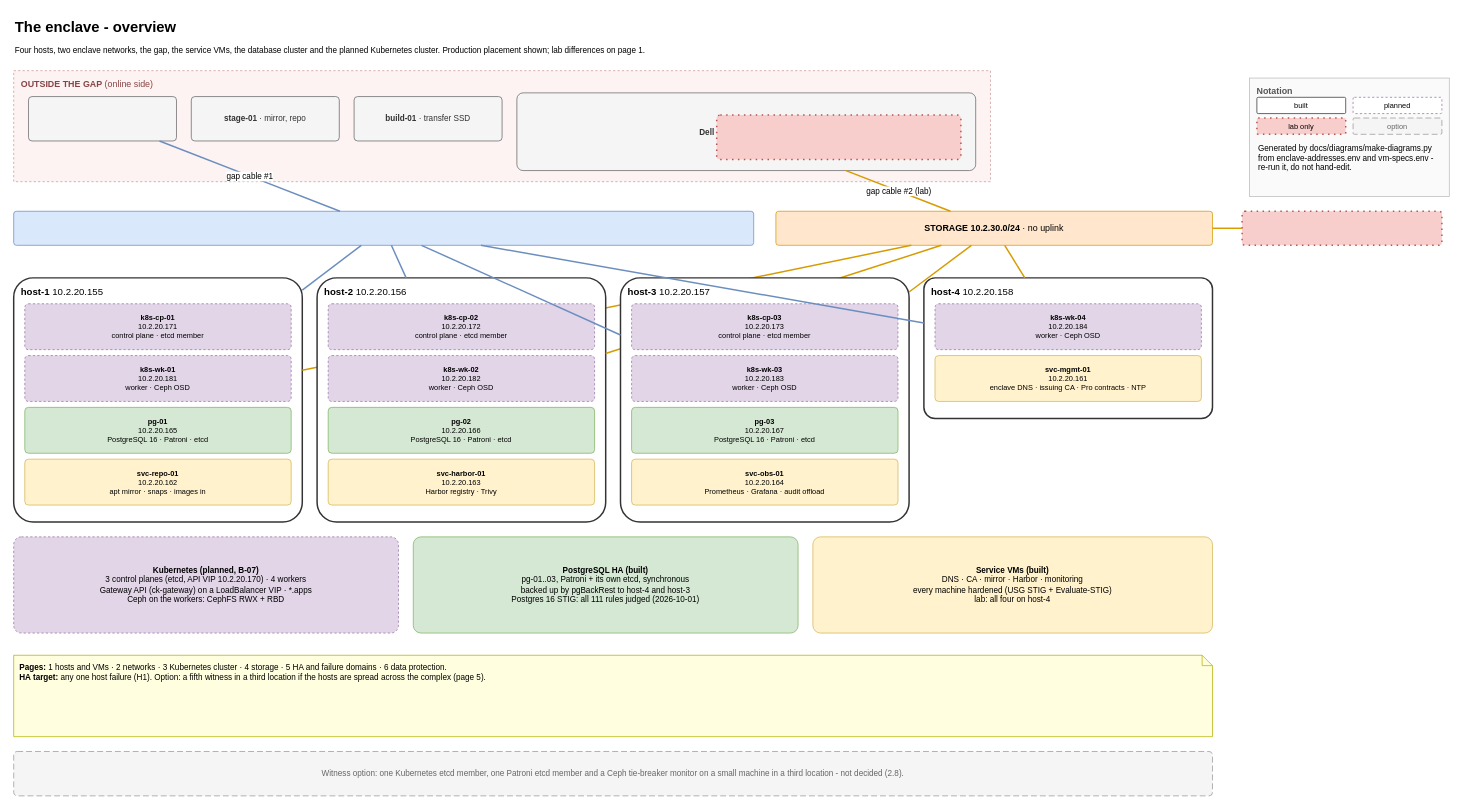
Image size: 1462x809. Some labels were removed from this diagram. Here are the shapes that lost their labels. From the top down, the centre of each, then its label:
At pixel 102 118: "FortiGate · internet edge".
At pixel 838 137: "lab-vault · cold copy (lab only)".
At pixel 383 228: "MANAGEMENT 10.2.20.0/24 · no gateway".
At pixel 1341 228: "NAS (lab only) office port = gap cable #3".
